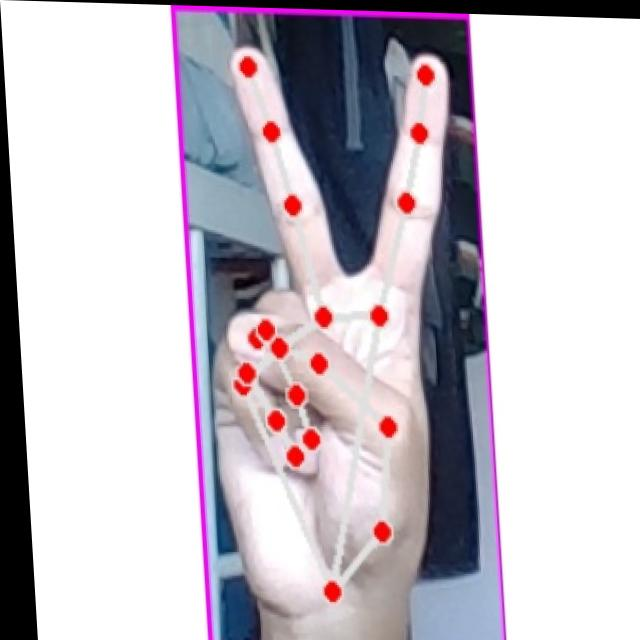V: (185, 37, 466, 611)
